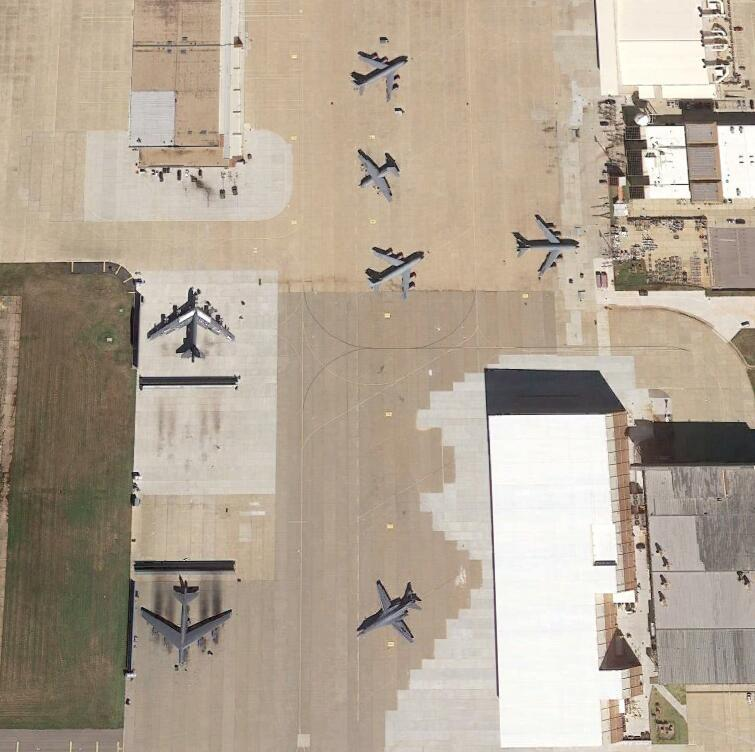A10: (354, 579, 421, 645)
A14: (514, 215, 580, 276), (365, 243, 424, 301), (348, 49, 408, 106)
A2: (353, 150, 400, 202)
A8: (139, 585, 233, 667), (146, 285, 239, 359)
